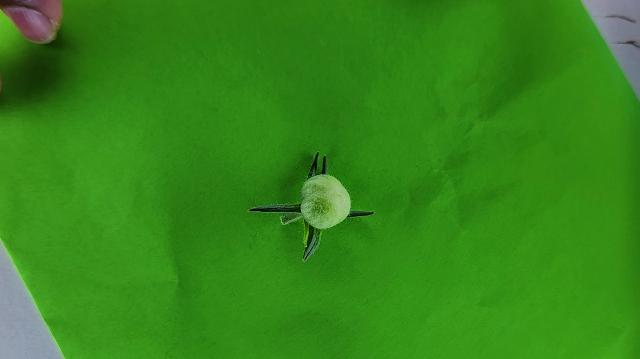Fruit Maturation: (298, 174, 352, 230)
